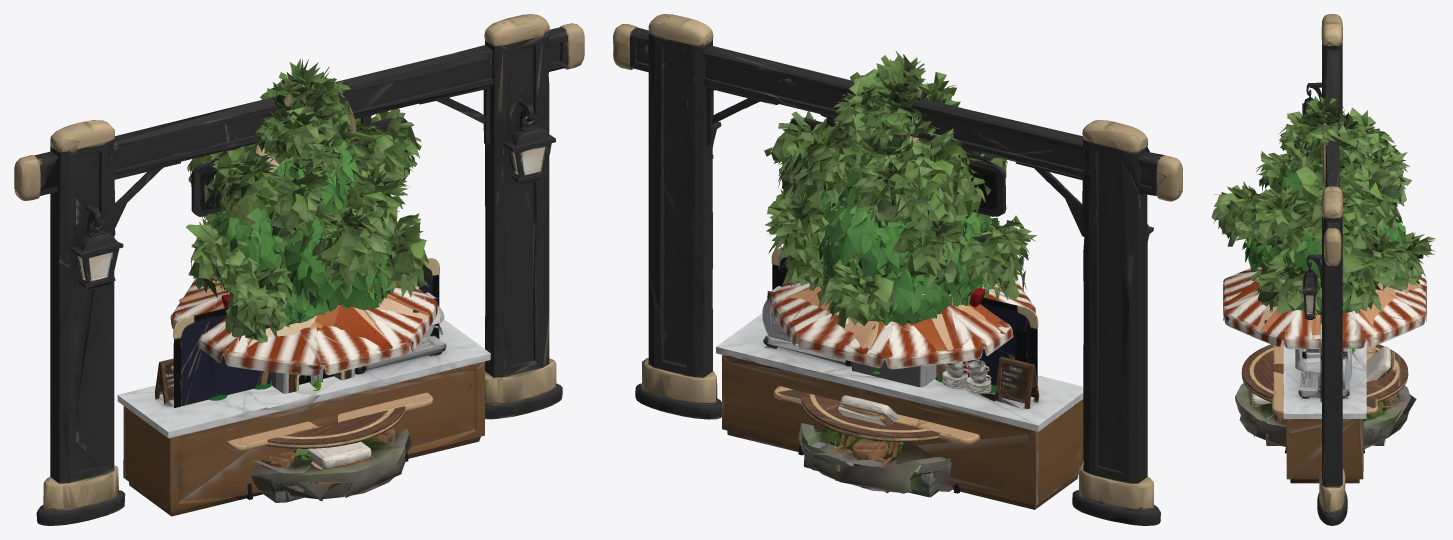
File: meshy-props.glb
3 views of the same model, side by side, from view 1: azimuth 30°, elevation 25°; view 2: azimuth 150°, elevation 25°; view 3: azimuth 270°, elevation 25° (orthographic). The views are drawn at different scales.
Parts seen in each view (by area): view 1: kapi, agac-genis, kahve-tezgahi, agac, semsiye, agac-ince, pano-cercevesi, kafe-masasi, konsey-masasi, kafe-uzun-masa, sezlong; view 2: kapi, agac-genis, kahve-tezgahi, agac, semsiye, agac-ince, kafe-masasi, pano-cercevesi, konsey-masasi, sezlong, kafe-uzun-masa, kahve-makinesi; view 3: agac-genis, kapi, kahve-tezgahi, semsiye, agac-ince, agac, konsey-masasi, kafe-masasi, sezlong, kafe-uzun-masa.
Part boxes in pixels (x1,y1,x2,y2): kapi: (14,14,584,525); agac-genis: (186,76,429,499); kahve-tezgahi: (117,292,490,516); agac: (211,138,400,488); semsiye: (170,277,437,376); agac-ince: (249,58,401,502); pano-cercevesi: (173,258,439,407); kafe-masasi: (179,282,429,487); konsey-masasi: (266,406,405,448); kafe-uzun-masa: (227,392,433,499); sezlong: (308,441,373,501); kapi: (613,14,1182,525); agac-genis: (764,68,1036,492); kahve-tezgahi: (716,283,1083,509); agac: (813,138,993,493); semsiye: (769,279,1035,369); agac-ince: (803,50,950,497); kafe-masasi: (788,284,1018,488); pano-cercevesi: (771,248,1038,402); konsey-masasi: (800,391,940,442); sezlong: (832,395,899,493); kafe-uzun-masa: (773,386,979,493); kahve-makinesi: (852,360,920,387); agac-genis: (1211,107,1435,449); kapi: (1302,14,1347,525); kahve-tezgahi: (1283,341,1366,483); semsiye: (1223,266,1426,348); agac-ince: (1265,93,1385,445); agac: (1242,162,1407,428); konsey-masasi: (1241,344,1408,402); kafe-masasi: (1223,281,1426,427); sezlong: (1251,346,1397,426); kafe-uzun-masa: (1272,340,1377,453).
Size of the model in its own units: 7 by 4.8 by 3.
44 materials, 44 textured.
